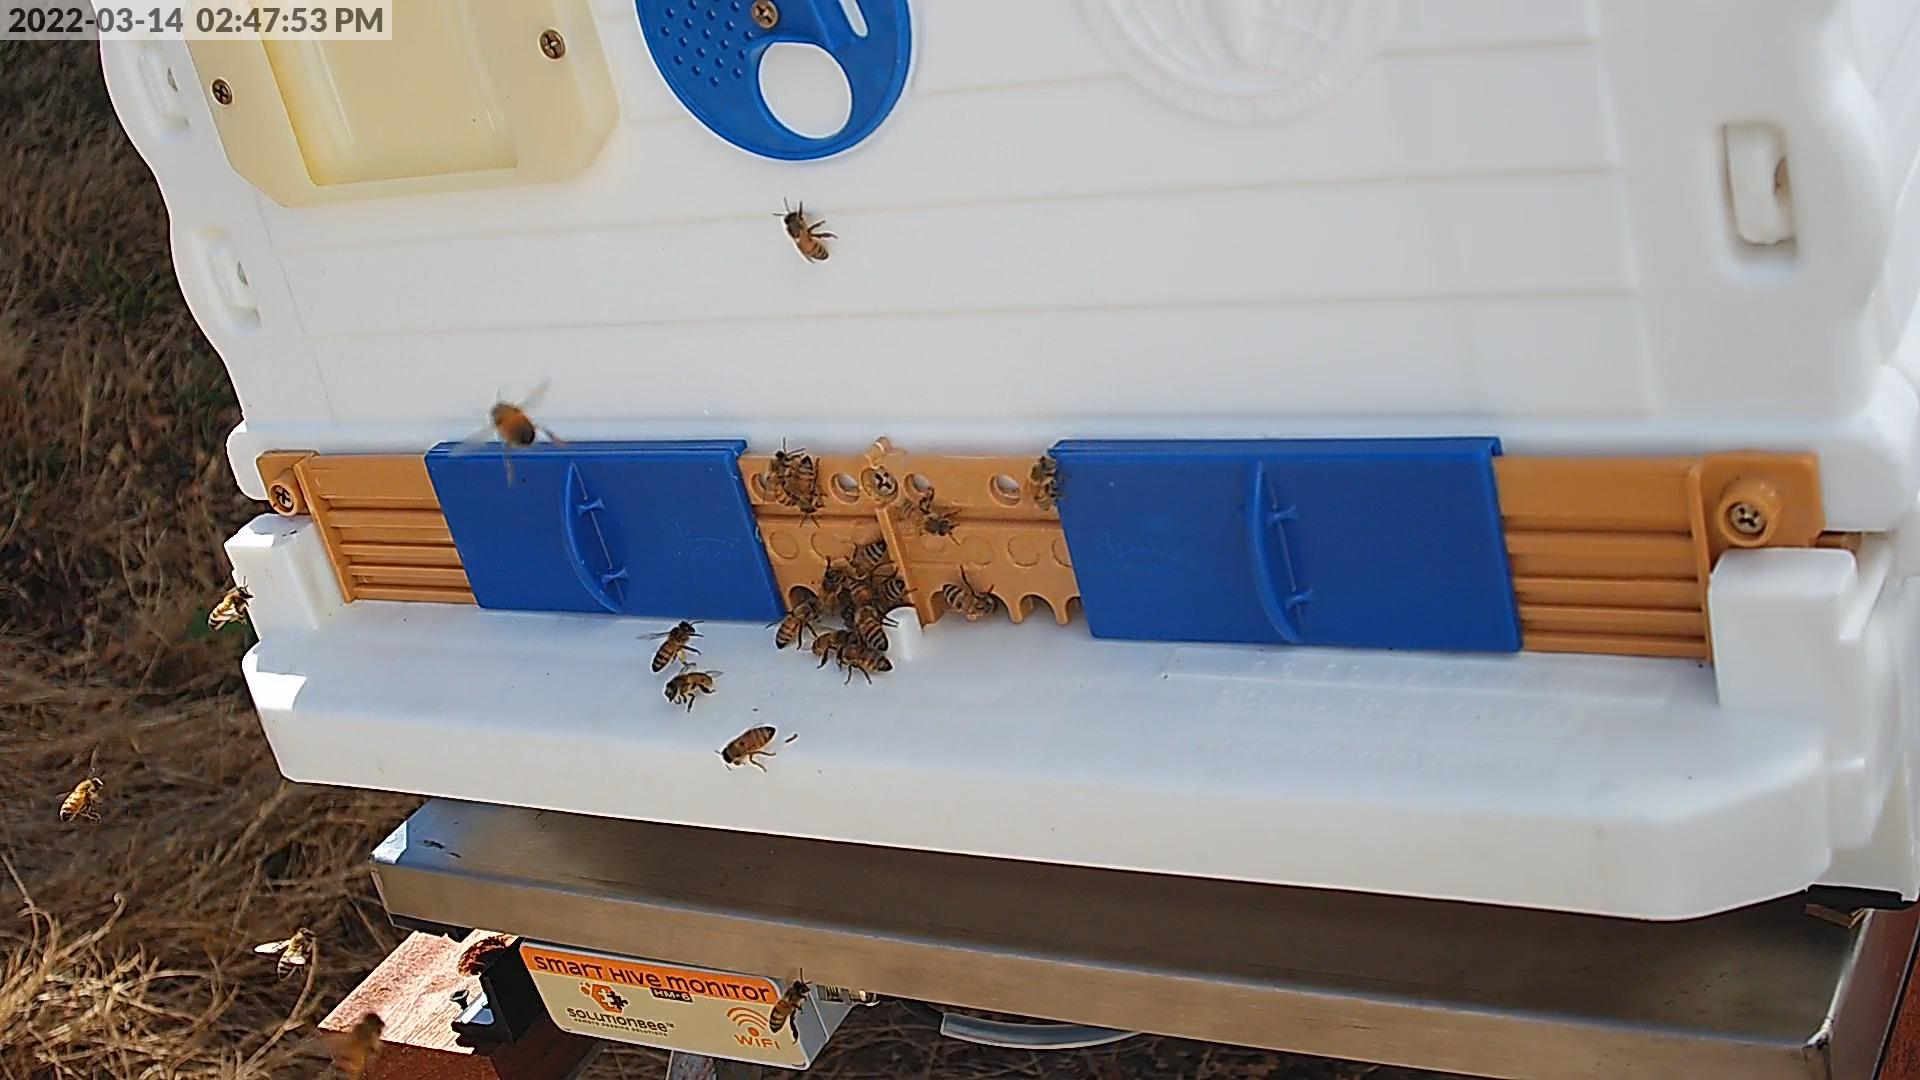bee: (335, 1010, 386, 1080), (783, 211, 829, 258), (894, 498, 955, 533), (277, 927, 315, 977), (721, 727, 774, 762), (777, 597, 815, 646), (773, 980, 808, 1031), (847, 541, 889, 583), (207, 588, 251, 629), (492, 402, 535, 442), (765, 450, 795, 505), (944, 583, 998, 613), (855, 605, 887, 651), (796, 454, 820, 512), (836, 650, 893, 673), (1034, 455, 1056, 509), (665, 673, 712, 698), (843, 576, 876, 608), (815, 632, 857, 655), (873, 580, 906, 611), (823, 570, 843, 615)
pollenbee: (650, 622, 695, 670), (61, 775, 103, 823)
